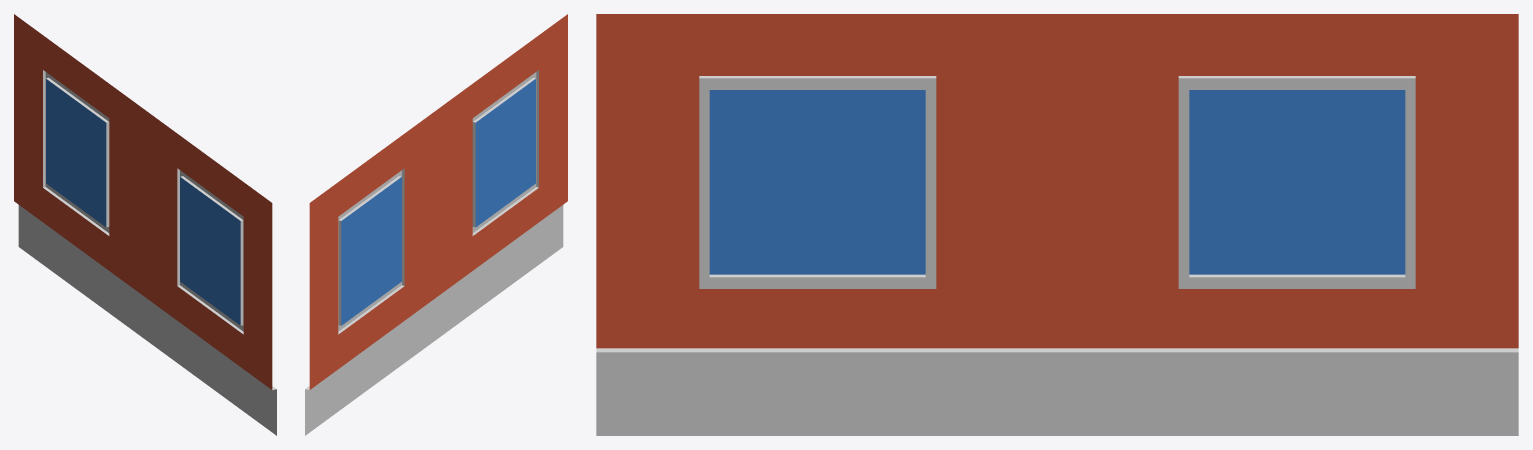
3 views of the same model, side by side, from view 1: azimuth 30°, elevation 25°; view 2: azimuth 150°, elevation 25°; view 3: azimuth 270°, elevation 25° (orthographic). The views are drawn at different scales.
Parts seen in each view (by area): view 1: 02a_Base; view 2: 02a_Base; view 3: 02a_Base.
Part boxes in pixels (x1,y1,x2,y2): 02a_Base: (14,14,276,435); 02a_Base: (305,14,567,435); 02a_Base: (596,14,1518,435).
Bounding box in the file's own units: 0.5147 × 50 × 25.
